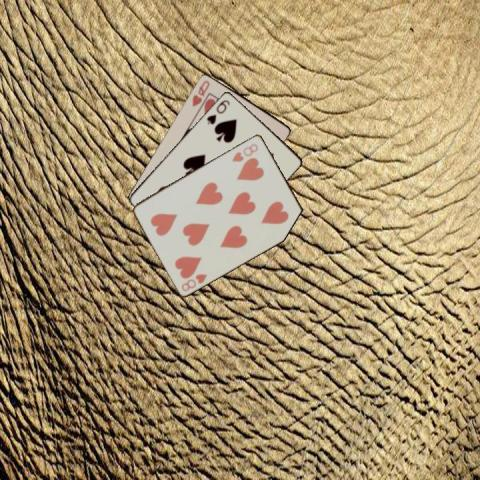6s: (204, 97, 232, 126)
8h: (229, 140, 259, 163), (178, 270, 209, 292)
Qh: (189, 77, 211, 108)
